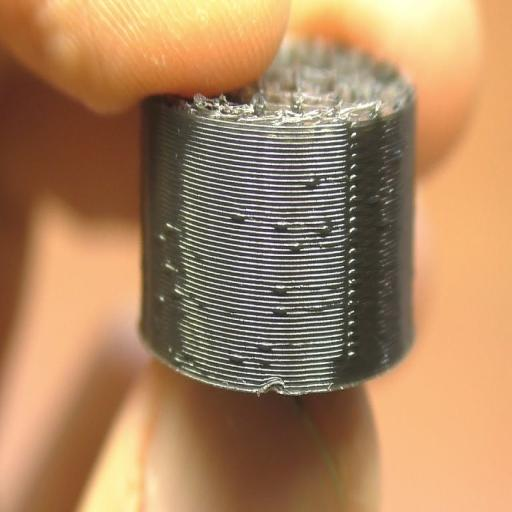blobs: (226, 166, 340, 280), (142, 208, 206, 330), (215, 316, 293, 384)
